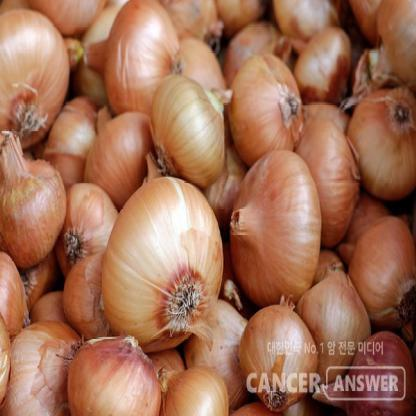onion: (106, 180, 215, 343), (229, 150, 324, 296), (0, 5, 72, 166), (154, 63, 241, 192), (234, 306, 320, 415), (66, 328, 172, 416), (233, 56, 318, 162), (96, 1, 179, 107), (349, 74, 415, 203), (347, 217, 415, 331), (7, 146, 73, 262)
